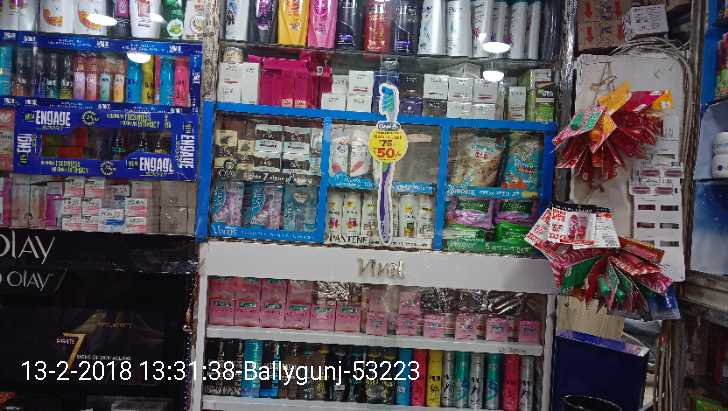venus: (282, 178, 319, 229), (253, 178, 282, 229), (211, 180, 243, 226)
